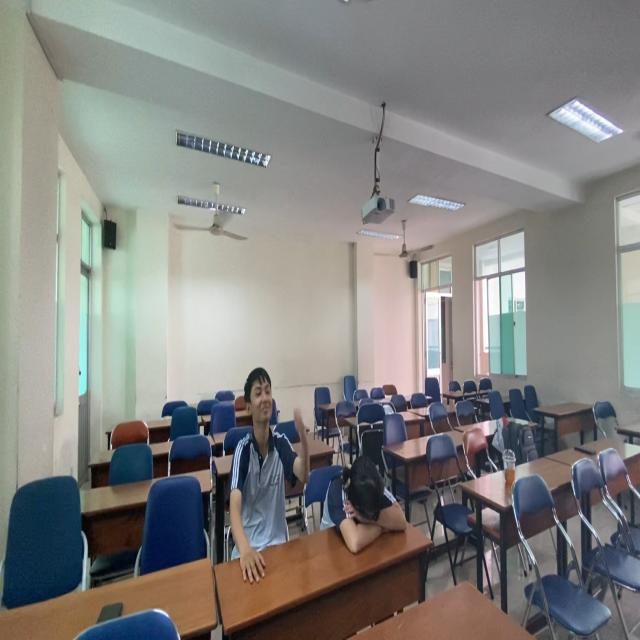sleep: (319, 455, 415, 549)
